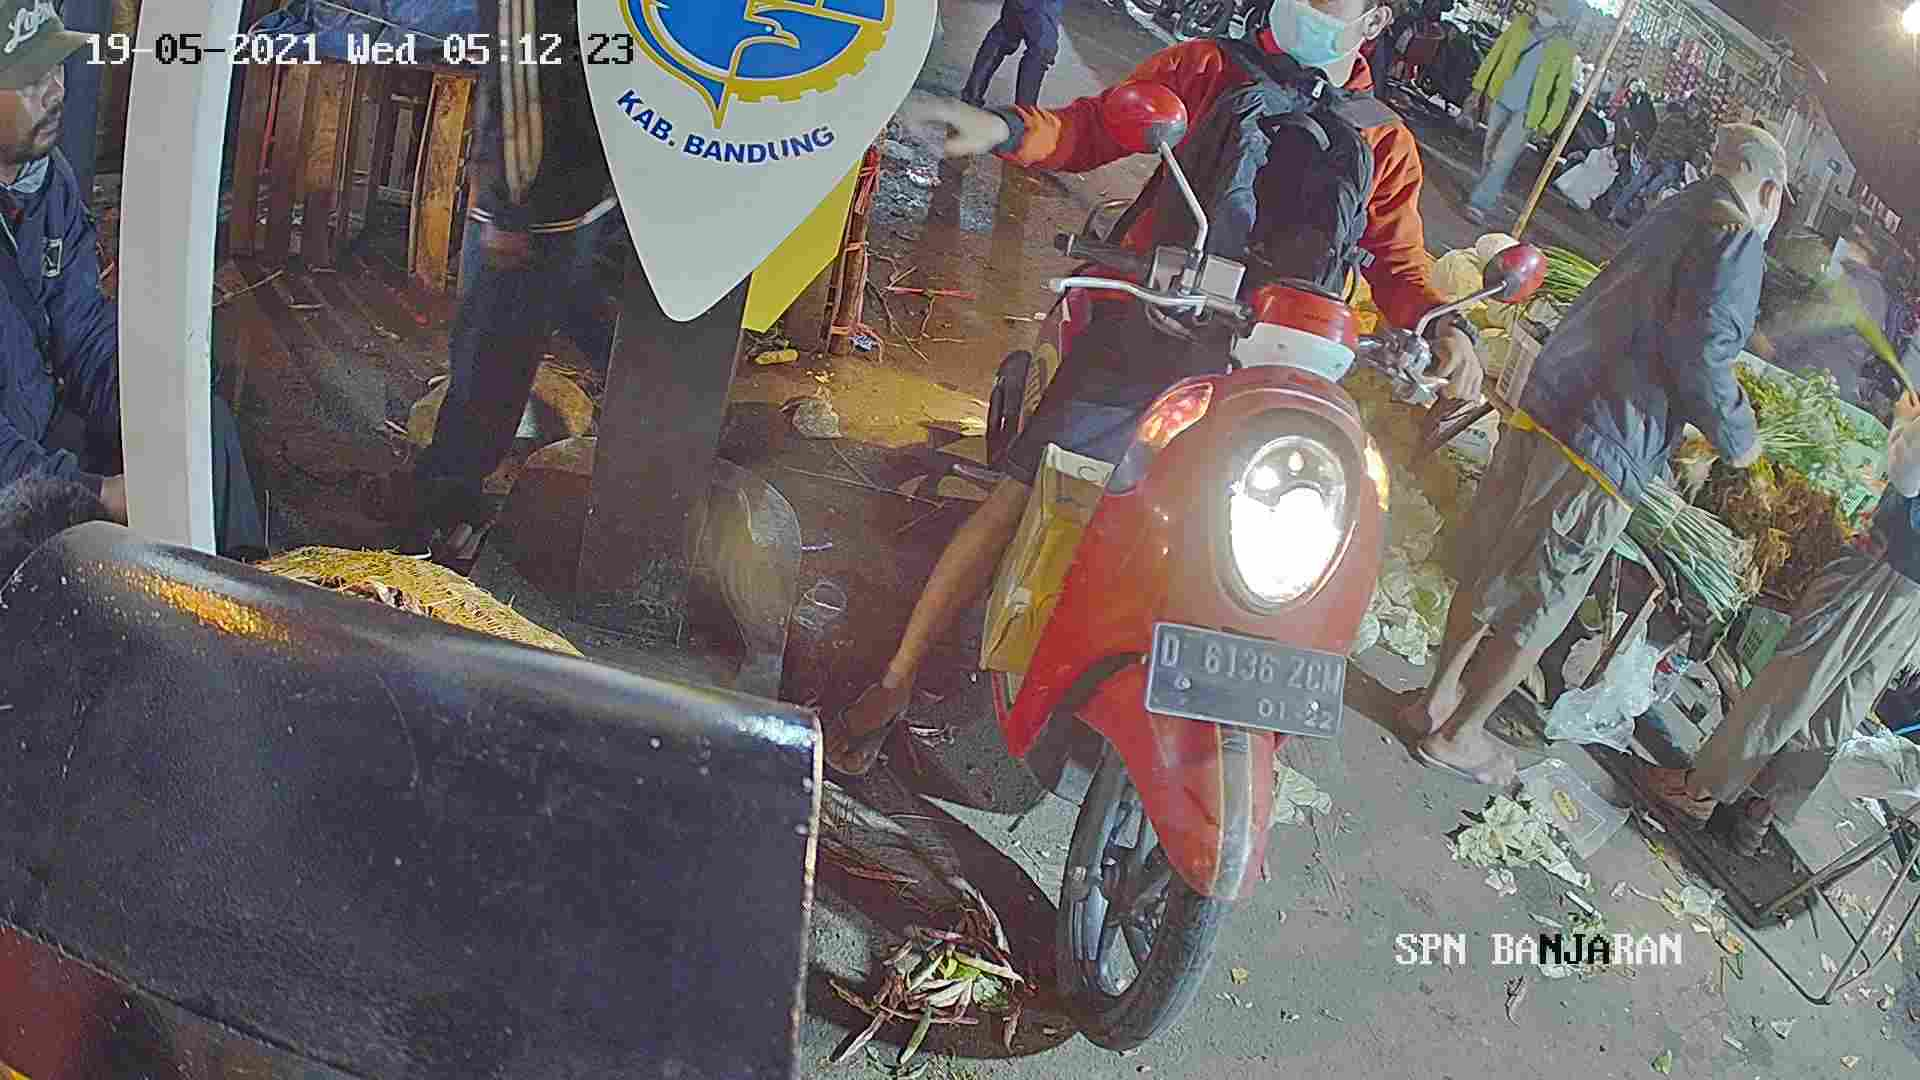motor: (1011, 237, 1414, 1077)
